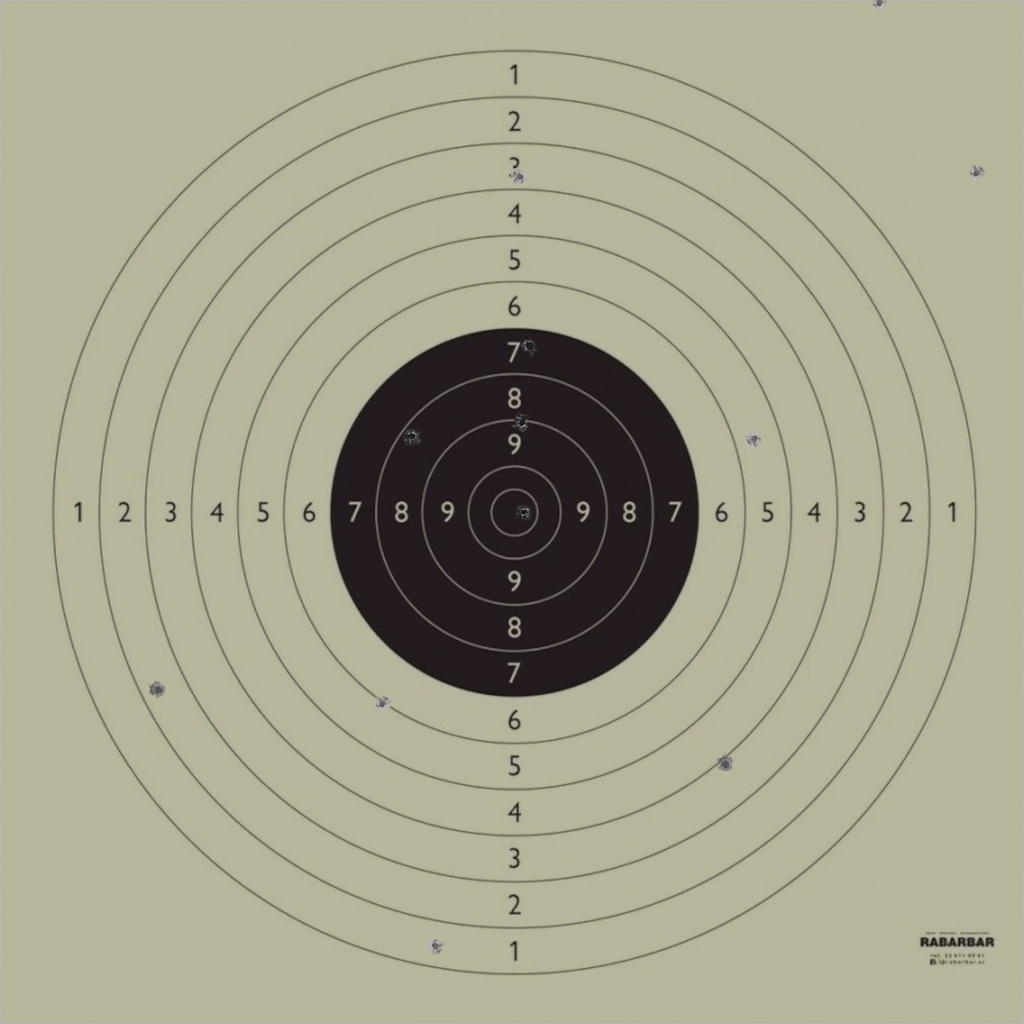0 punktow: (967, 164, 986, 182)
1 punkt: (426, 937, 445, 955)
10 punktow: (515, 503, 533, 521)
2 punkty: (149, 680, 167, 699)
3 punkty: (510, 168, 529, 186)
4 punkty: (716, 755, 735, 773)
5 punktow: (745, 430, 764, 448)
6 punktow: (373, 694, 392, 713)
7 punktow: (520, 337, 539, 356)
8 punktow: (403, 427, 421, 446)
9 punktow: (513, 413, 531, 431)
